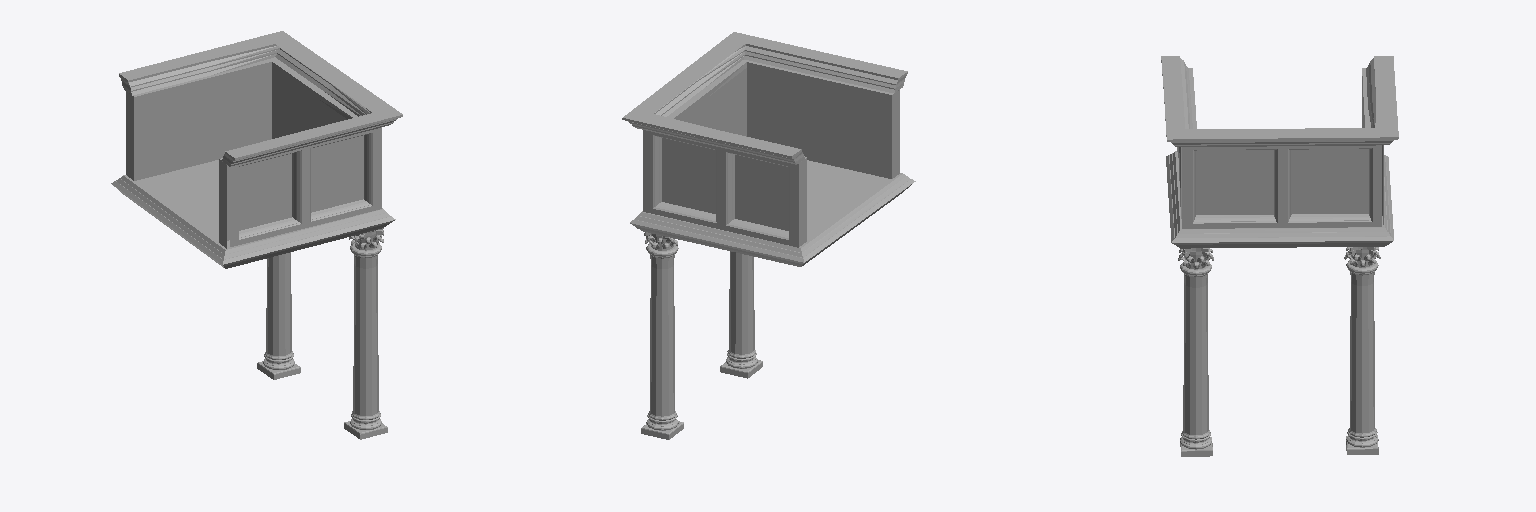
File: pulpito1.obj
The picture shows the model from 3 angles: view 1: azimuth 30°, elevation 25°; view 2: azimuth 150°, elevation 25°; view 3: azimuth 270°, elevation 25°; orthographic projection.
Visible parts, largest first — view 1: IN_LatoPul; view 2: IN_LatoPul; view 3: IN_LatoPul.
Boxes of the visible parts, box(x1,y1,x2,y2) form: IN_LatoPul: box(111, 31, 402, 439); IN_LatoPul: box(622, 32, 915, 439); IN_LatoPul: box(1161, 56, 1398, 456).
Size of the model in its own units: 1.8 by 3.05 by 2.04.